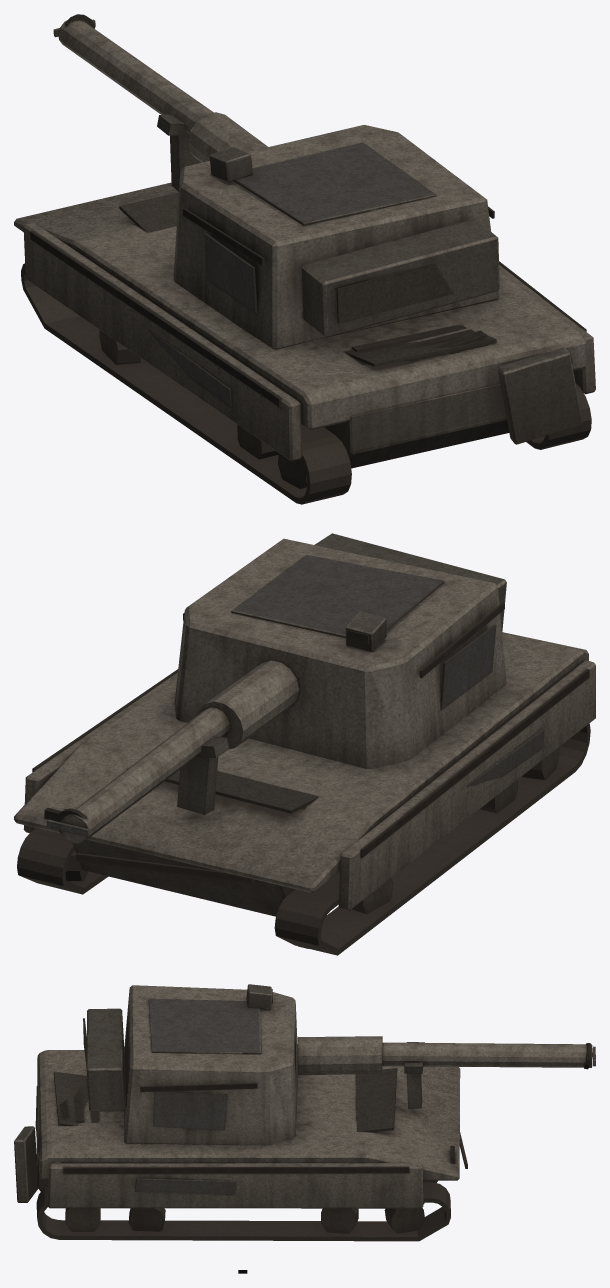
Rendered from ord_mandate_wreck.fbx.
3 renders of one model, top to bottom at view 1: azimuth 30°, elevation 25°; view 2: azimuth 150°, elevation 25°; view 3: azimuth 270°, elevation 25°, orthographic. The views are drawn at different scales.
Parts seen in each view (by area): view 1: base_bar, turret_bar, trackL_bar, barrel_bar, trackR_bar; view 2: base_bar, turret_bar, trackL_bar, barrel_bar, trackR_bar; view 3: base_bar, turret_bar, trackR_bar, barrel_bar.
Part boxes in pixels (left/top/right/bottom): base_bar: left=14, top=114, right=595, bottom=468; turret_bar: left=173, top=125, right=499, bottom=349; trackL_bar: left=21, top=263, right=351, bottom=504; barrel_bar: left=53, top=14, right=267, bottom=162; trackR_bar: left=526, top=383, right=591, bottom=449; base_bar: left=14, top=632, right=595, bottom=916; turret_bar: left=174, top=533, right=506, bottom=768; trackL_bar: left=274, top=723, right=590, bottom=955; barrel_bar: left=46, top=660, right=299, bottom=843; trackR_bar: left=17, top=828, right=108, bottom=894; base_bar: left=14, top=1042, right=467, bottom=1208; turret_bar: left=83, top=984, right=298, bottom=1145; trackR_bar: left=36, top=1182, right=450, bottom=1241; barrel_bar: left=297, top=1036, right=595, bottom=1075.
Size of the model in its own units: 610 by 618 by 1260.
2 materials, 2 textured.
